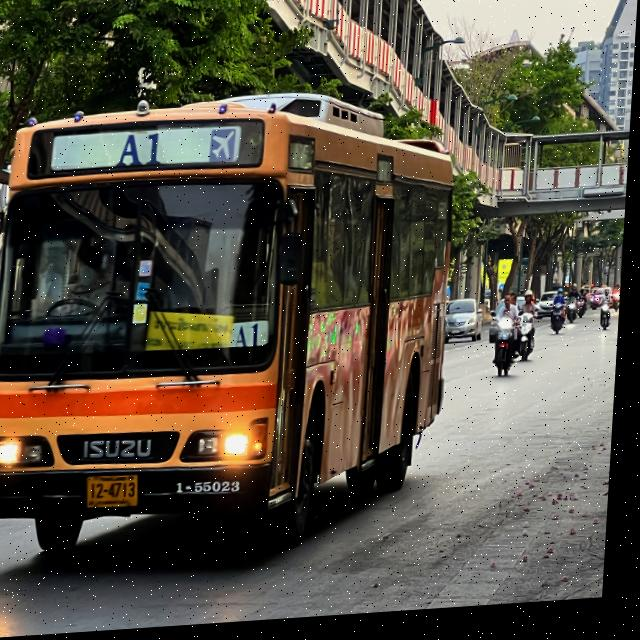BMTA-bus: (0, 80, 467, 564)
Bus-Line-Number: (106, 128, 177, 175)
Destination-Sign-Normal-Expressway: (149, 311, 239, 354)
